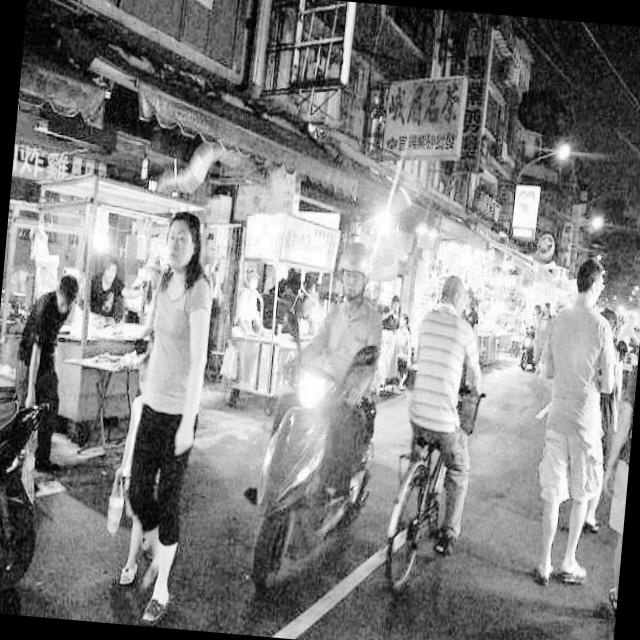Bicycle: (380, 377, 496, 620)
Motorcycle: (232, 341, 398, 628), (0, 362, 46, 603)
Person: (103, 204, 240, 614), (283, 235, 402, 510), (526, 247, 614, 594), (397, 268, 492, 559), (5, 268, 84, 478), (596, 298, 640, 617)
